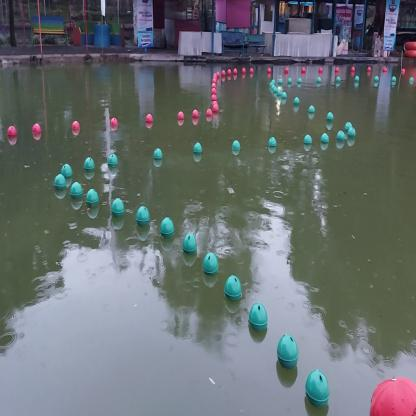green_buoy: (303, 367, 330, 411), (272, 332, 301, 369), (249, 296, 270, 332), (223, 271, 244, 306), (202, 249, 220, 281), (158, 214, 178, 239), (181, 230, 199, 256), (109, 195, 127, 216), (69, 178, 84, 202), (52, 169, 66, 192), (85, 187, 100, 208), (136, 203, 150, 225), (84, 153, 96, 174), (62, 160, 73, 181), (106, 152, 119, 169), (153, 146, 164, 164), (230, 137, 242, 153), (192, 142, 203, 157), (320, 131, 329, 145), (344, 118, 352, 132), (336, 128, 344, 142), (268, 136, 277, 148), (348, 125, 356, 138), (326, 109, 334, 121), (304, 134, 312, 146), (308, 104, 315, 114), (293, 96, 300, 104)
red_buoy: (32, 119, 43, 137), (70, 119, 80, 136), (6, 121, 16, 138), (143, 113, 153, 123), (207, 103, 212, 122), (112, 116, 118, 129), (192, 107, 199, 118), (177, 110, 184, 120), (213, 104, 219, 114)
